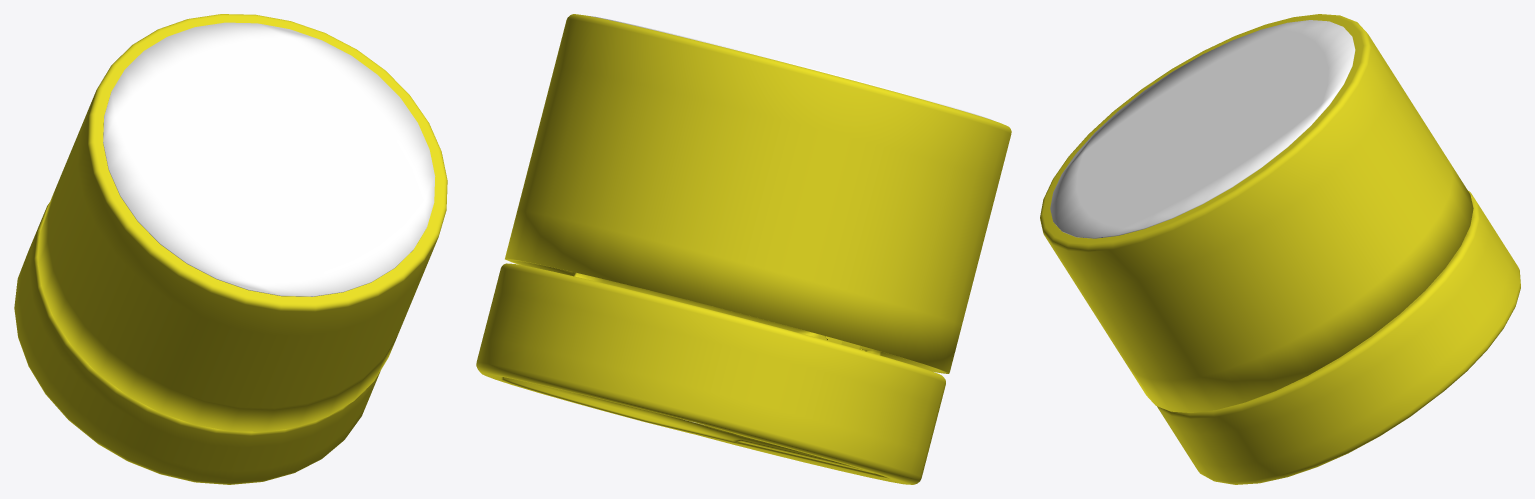
Rendered from pug.glb.
3 renders of one model, left to right at view 1: azimuth 30°, elevation 25°; view 2: azimuth 150°, elevation 25°; view 3: azimuth 270°, elevation 25°, orthographic. The views are drawn at different scales.
Parts seen in each view (by area): view 1: Cylinder.026, LID, BOTTOM; view 2: LID, BOTTOM, Cylinder.026; view 3: LID, Cylinder.026, BOTTOM.
Part boxes in pixels (x1,y1,x2,y2): Cylinder.026: (103,22,435,296); LID: (37,14,447,431); BOTTOM: (14,202,380,484); LID: (505,14,1011,373); BOTTOM: (476,263,945,484); Cylinder.026: (589,16,993,120); LID: (1040,14,1473,412); Cylinder.026: (1050,20,1355,238); BOTTOM: (1157,191,1520,484).
Size of the model in its own units: 1.48 by 1.75 by 1.86.
